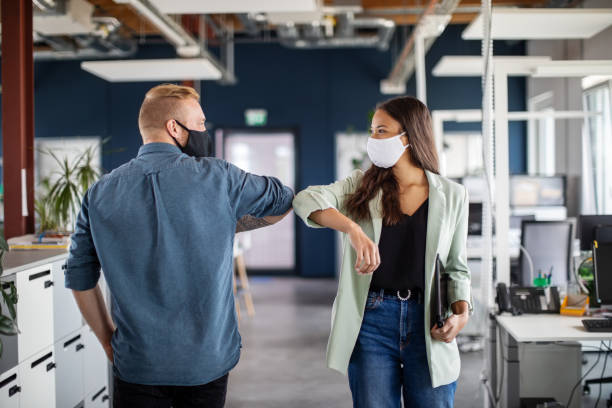with mask: (135, 85, 217, 160), (353, 100, 435, 175)
